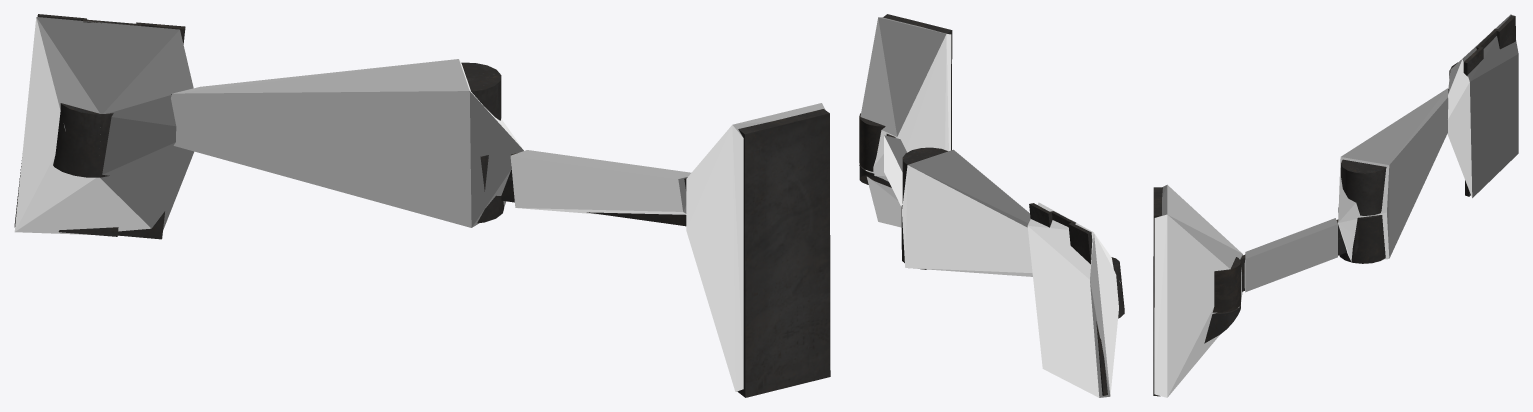
The model's file is SM_Monitor_Holder_02.fbx.
3 views of the same model, side by side, from view 1: azimuth 30°, elevation 25°; view 2: azimuth 150°, elevation 25°; view 3: azimuth 270°, elevation 25° (orthographic). The views are drawn at different scales.
Visible parts, largest first — view 1: SM_Monitor_Holder_02_ConvexHulls, SM_Monitor_Holder_02_LOD0; view 2: SM_Monitor_Holder_02_ConvexHulls, SM_Monitor_Holder_02_LOD0; view 3: SM_Monitor_Holder_02_ConvexHulls, SM_Monitor_Holder_02_LOD0.
Boxes of the visible parts, x1,y1,x2,y2 form: SM_Monitor_Holder_02_ConvexHulls: (14,17,825,391); SM_Monitor_Holder_02_LOD0: (14,14,830,397); SM_Monitor_Holder_02_ConvexHulls: (860,17,1120,397); SM_Monitor_Holder_02_LOD0: (859,14,1124,395); SM_Monitor_Holder_02_ConvexHulls: (1154,14,1518,397); SM_Monitor_Holder_02_LOD0: (1153,15,1515,396).
Size of the model in its own units: 73.02 by 60.74 by 37.73.
